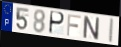5: (15, 7, 30, 32)
8: (33, 8, 47, 34)
F: (66, 13, 82, 37)
I: (107, 17, 115, 44)
N: (83, 15, 100, 42)
P: (48, 10, 65, 36)
